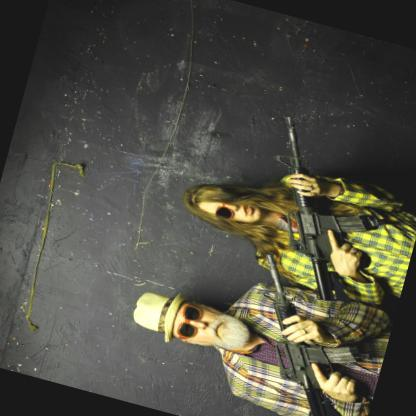rifle: (238, 113, 406, 311), (217, 249, 390, 416)
